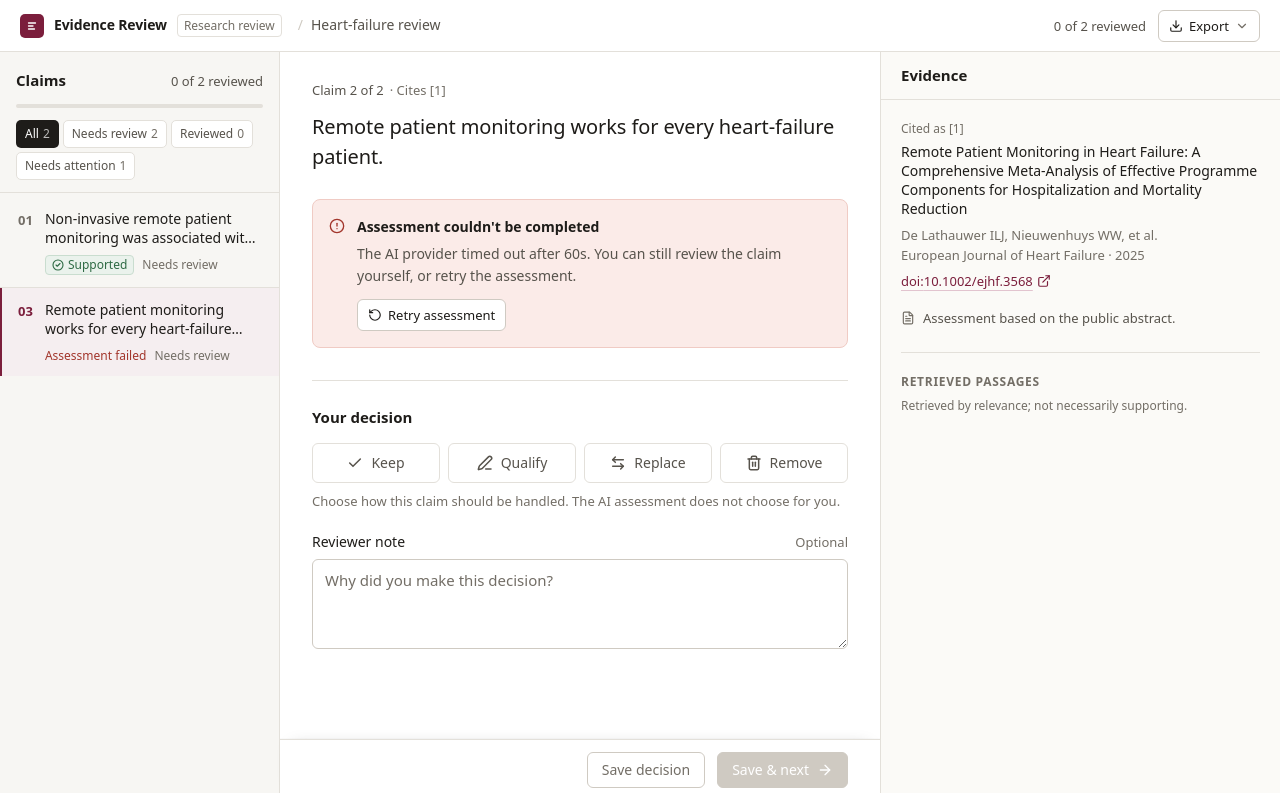
Test case: Review workspace — reassessment and failures › isolates a claim whose assessment failed and offers a retry
Expected: the message is shown, [312,199,848,348]
Expected: the text "The AI provider timed out after 60s" is shown, [357,244,590,263]
Click the button "Retry assessment": point(432, 315) [357,299,506,331]
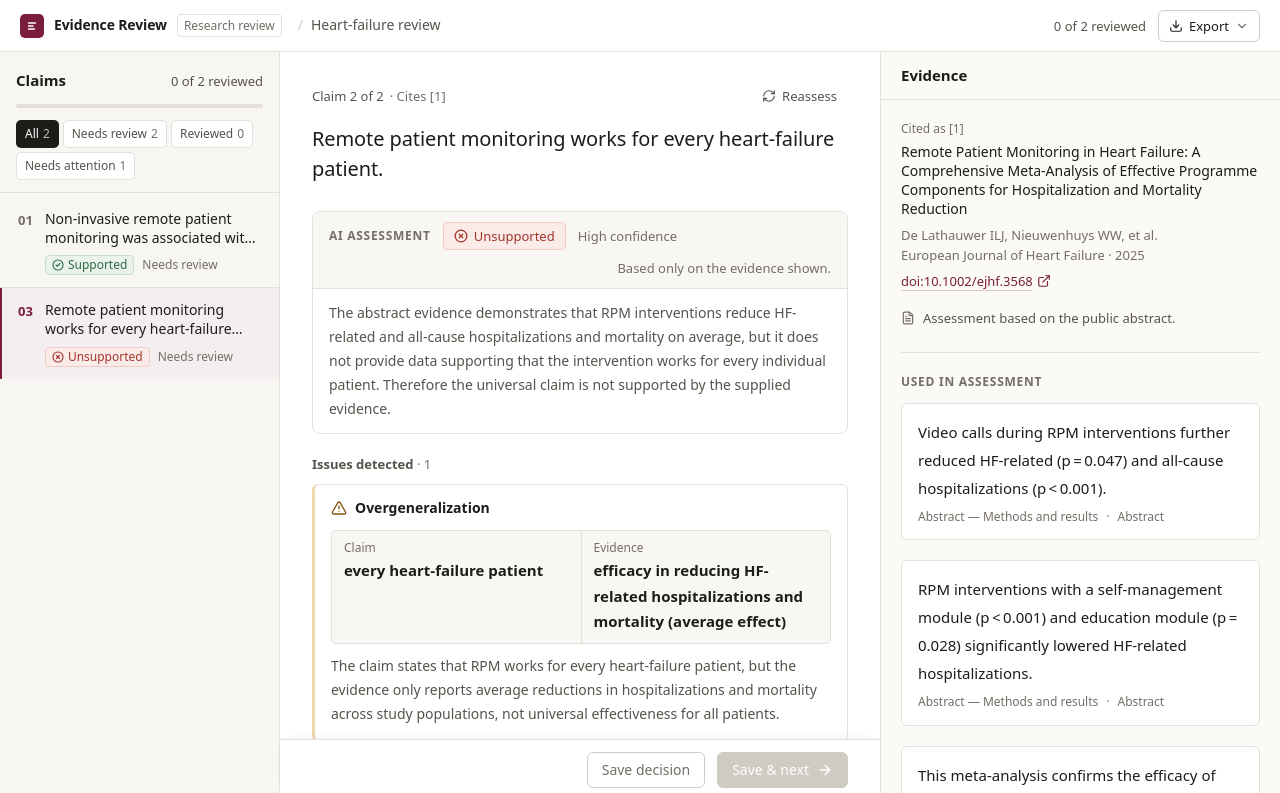
Result: the element "AI assessment" is shown at [312,211,848,434]
